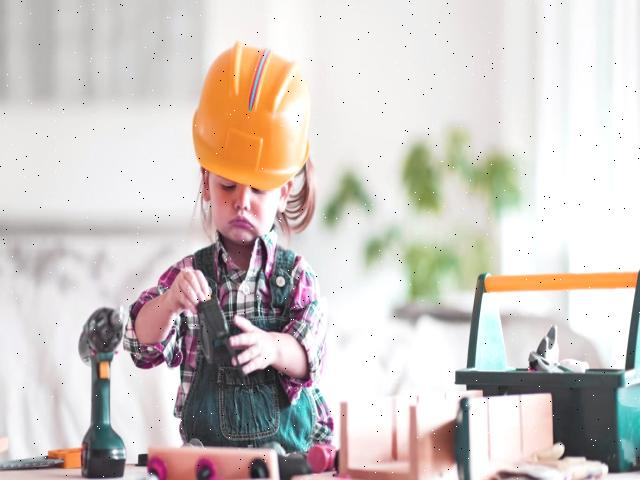Helmet: (188, 32, 319, 207)
